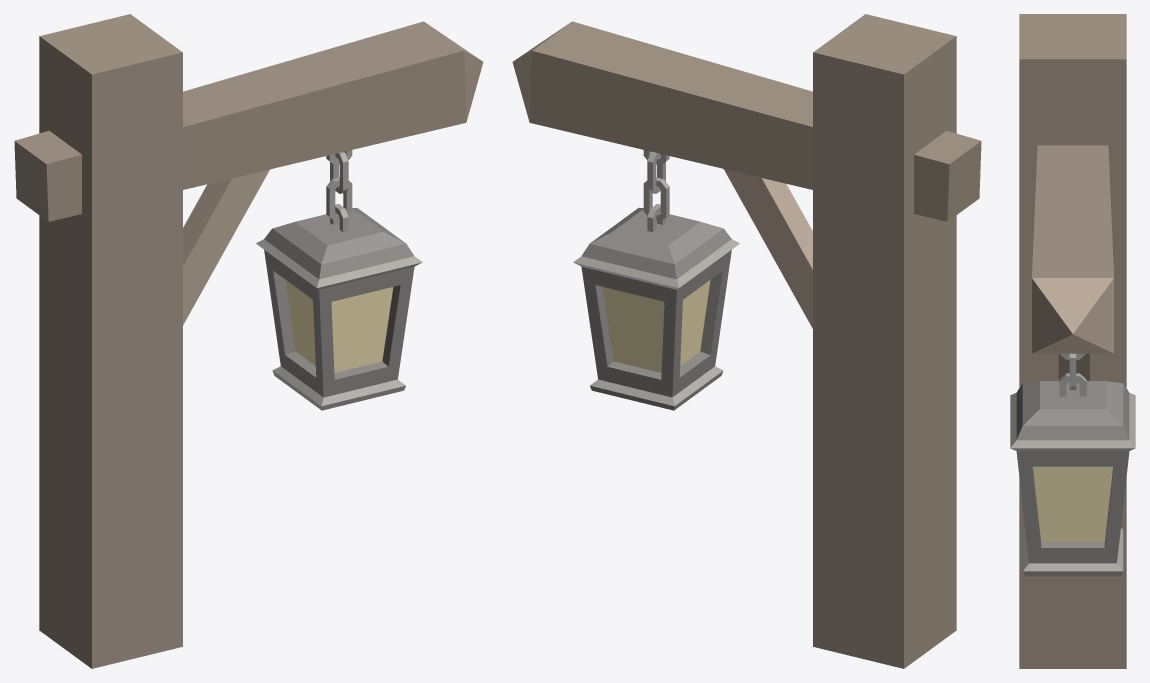
The model's file is Prop_Lamp_Street.glb.
3 renders of one model, left to right at view 1: azimuth 30°, elevation 25°; view 2: azimuth 150°, elevation 25°; view 3: azimuth 270°, elevation 25°, orthographic. The views are drawn at different scales.
Visible parts, largest first — view 1: object5, object2, object6, object8, object1, object4; view 2: object5, object2, object6, object1, object8, object4; view 3: object5, object2, object6, object8, object1, object9, object4.
Part boxes in pixels (x1,y1,x2,y2): object5: (39,14,182,668); object2: (14,21,483,221); object6: (256,207,422,410); object8: (285,280,393,372); object1: (183,169,269,324); object4: (326,177,352,221); object5: (813,14,956,668); object2: (512,21,981,221); object6: (573,207,739,410); object1: (724,169,812,328); object8: (602,280,710,372); object4: (643,177,669,221); object5: (1019,14,1126,668); object2: (1032,145,1113,353); object6: (1010,381,1135,576); object8: (1033,466,1112,541); object1: (1058,353,1089,380); object9: (1059,373,1086,396); object4: (1069,353,1076,389).
Size of the model in its own units: 0.9969 by 1.25 by 0.2333.
